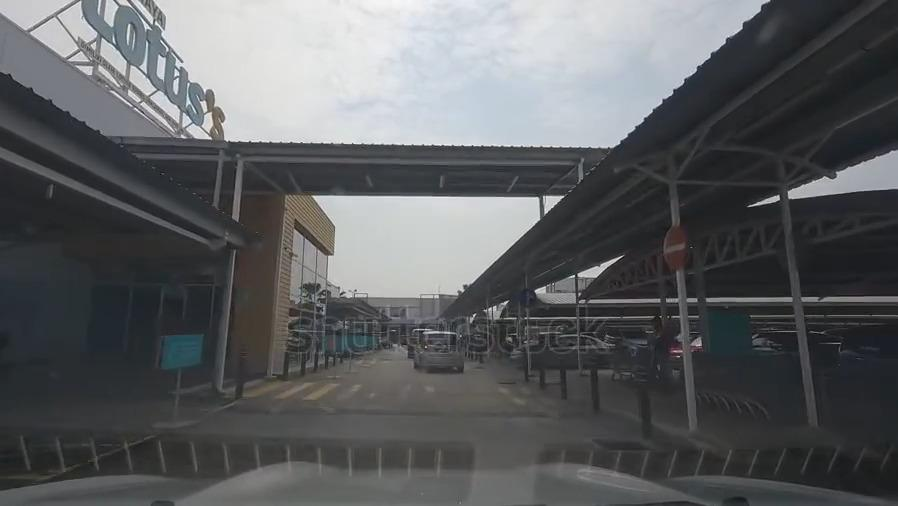car: (517, 331, 618, 368), (839, 322, 898, 369), (755, 327, 841, 358), (414, 329, 466, 371), (605, 326, 647, 356), (675, 330, 703, 367), (408, 330, 433, 356)
manhole: (590, 431, 653, 455)
pedestrian: (257, 375, 565, 414)
person: (645, 313, 674, 389)
